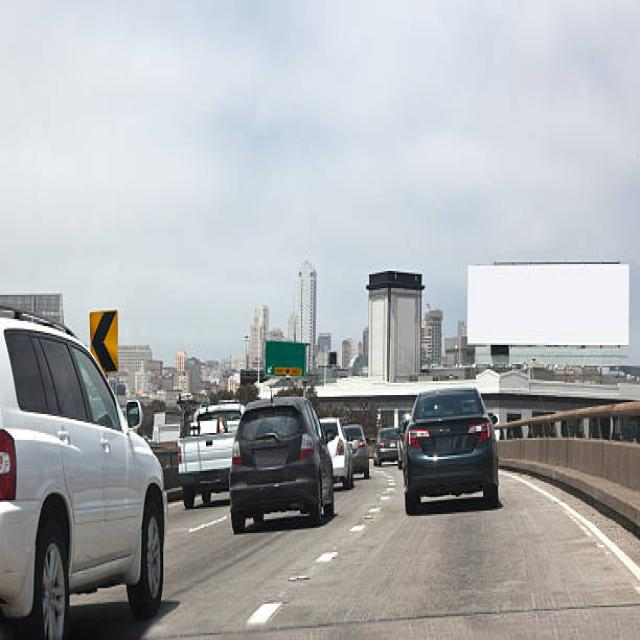Ad-signs: (89, 308, 118, 372)
Car: (0, 303, 167, 638), (228, 393, 334, 533), (399, 385, 500, 514)
Traffic-sign: (264, 338, 306, 378)
